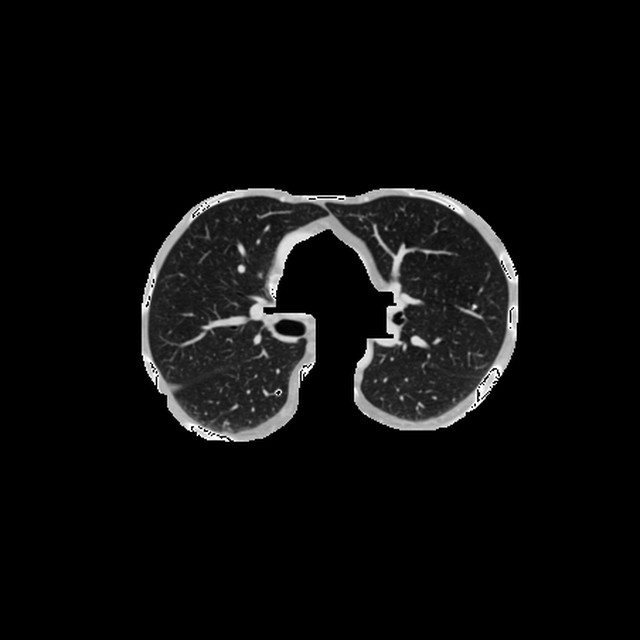PN: (275, 389, 280, 395)
